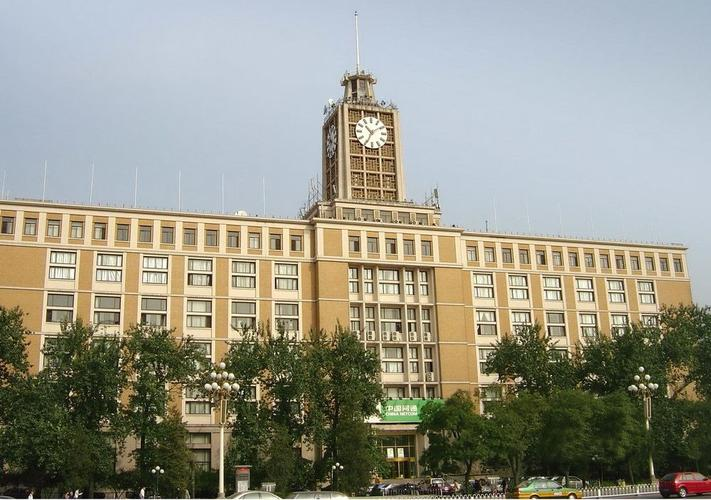buildings: (11, 112, 695, 372), (306, 69, 430, 241)
